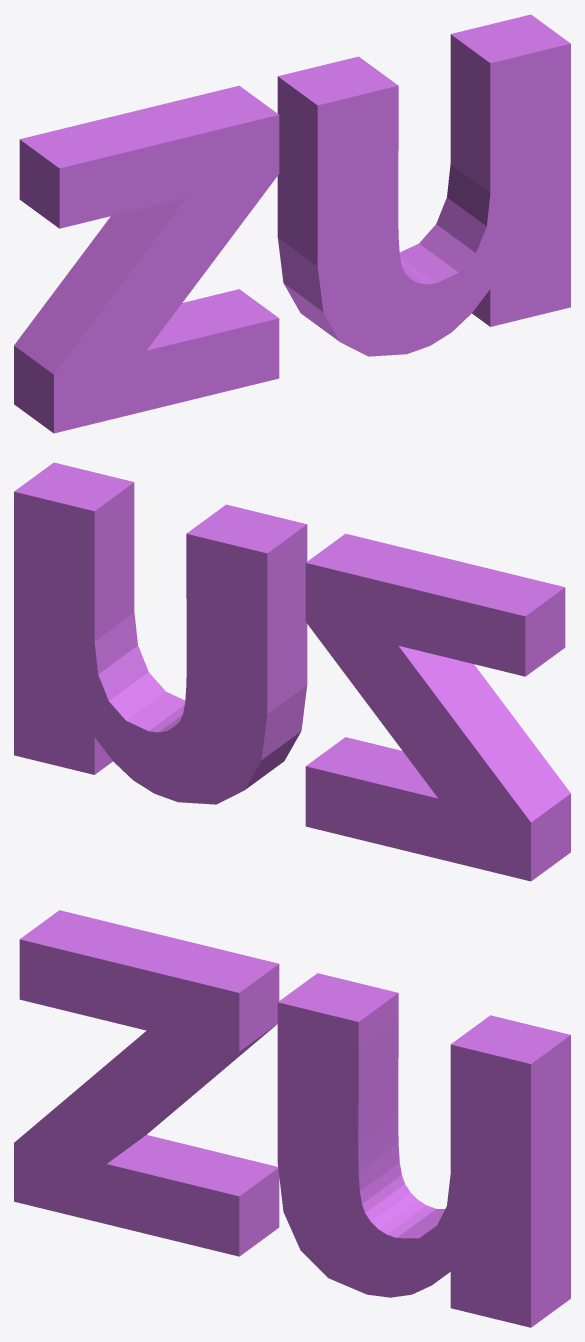
Rendered from suku_kecil_zu.glb.
3 renders of one model, top to bottom at view 1: azimuth 30°, elevation 25°; view 2: azimuth 150°, elevation 25°; view 3: azimuth 330°, elevation 25°, orthographic.
Parts seen in each view (by area): view 1: geometry_0; view 2: geometry_0; view 3: geometry_0.
Boxes of the visible parts, left/top/right/bottom form: geometry_0: left=14, top=14, right=570, bottom=433; geometry_0: left=14, top=462, right=570, bottom=881; geometry_0: left=14, top=910, right=570, bottom=1327.
Size of the model in its own units: 11.22 by 5.61 by 1.5.
